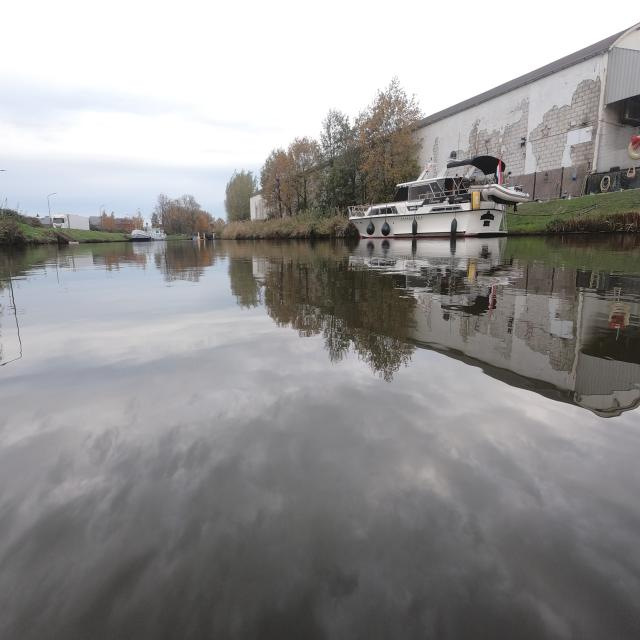boat: (130, 228, 167, 241)
grass: (507, 188, 639, 231)
reed: (216, 210, 347, 239)
sky: (1, 0, 639, 215)
tree: (260, 77, 422, 217), (356, 78, 421, 202)
water: (1, 232, 638, 639)
